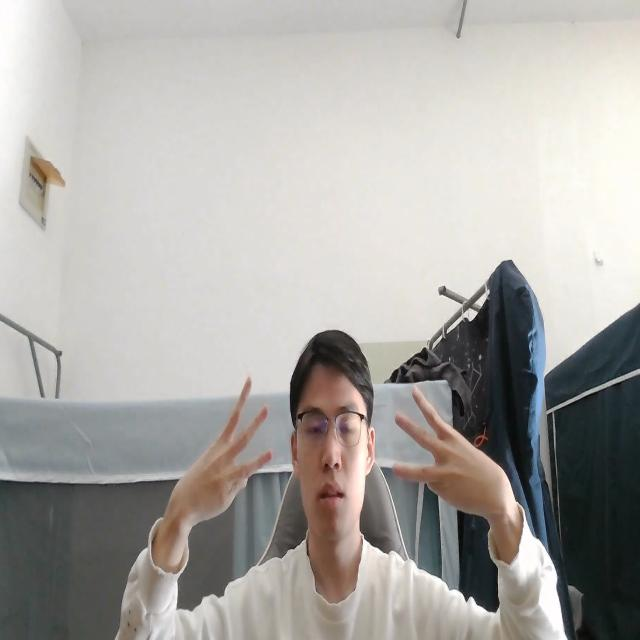three: (384, 382, 518, 528), (166, 374, 274, 532)
